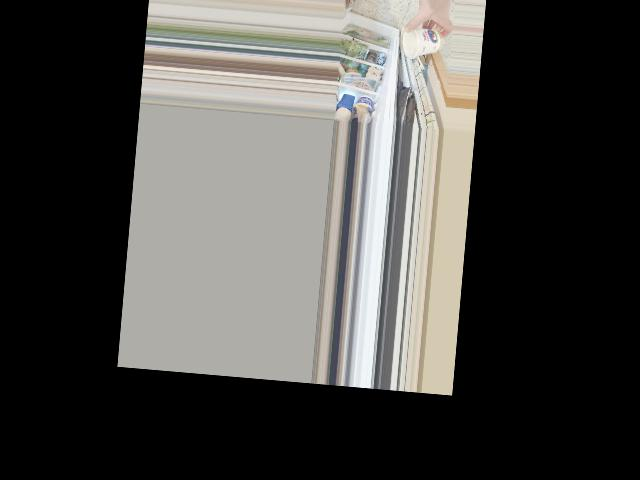cotage: (402, 23, 443, 60)
